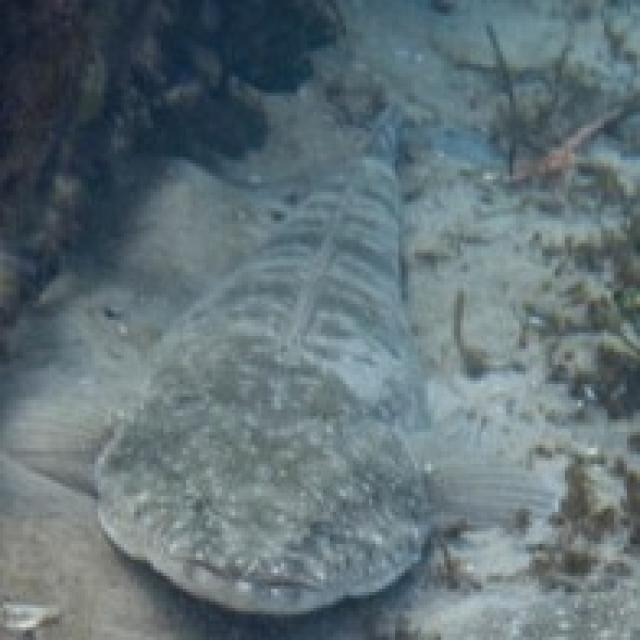Flathead: (0, 83, 571, 620)
